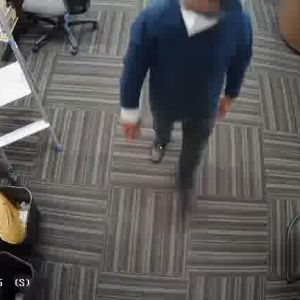person: (121, 0, 250, 171)
